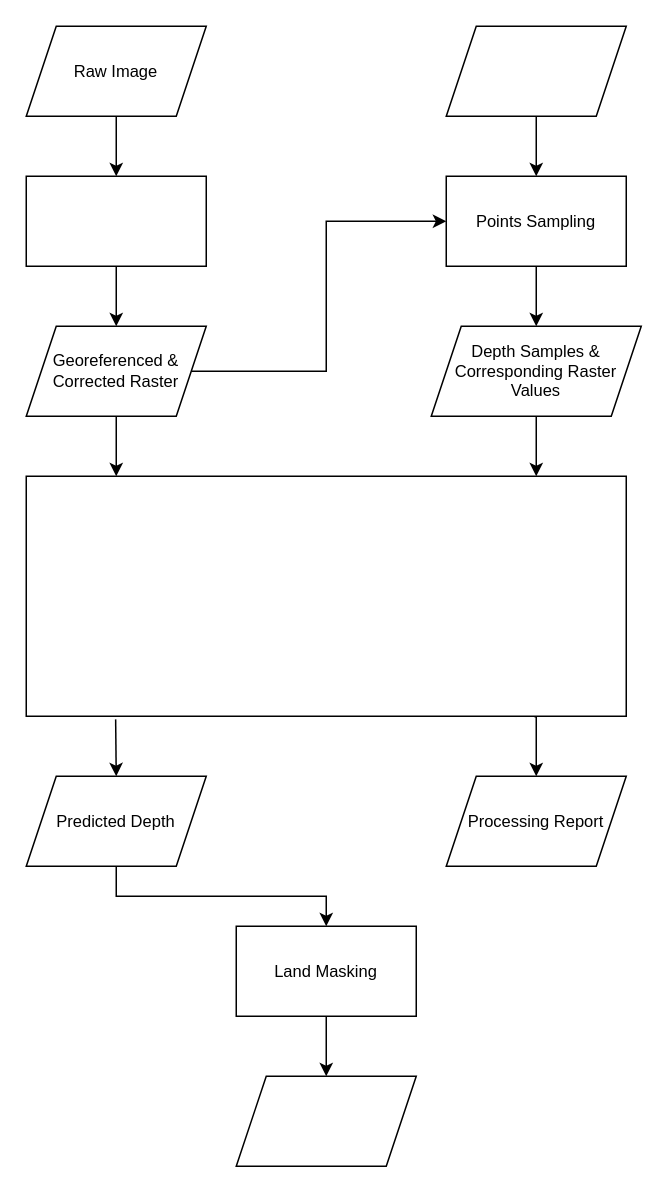
Some shapes in this 668 by 1193 pixel diagram are drawn without their labels. Here are the shapes that lost their labels. From the top down, the box of each, then its label:
(445, 25, 626, 116): Depth Samples
(25, 175, 206, 266): Pre Processing
(25, 475, 626, 716): SDB GUI Processing
(235, 1075, 416, 1166): Land-Masked Predicted Depth
